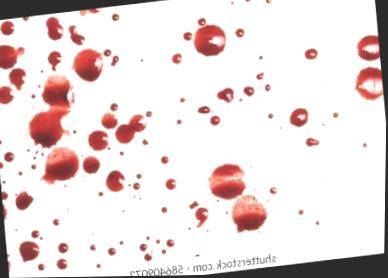Fire: (126, 154, 207, 235), (198, 73, 273, 126), (85, 232, 181, 270), (28, 74, 74, 148), (41, 148, 79, 184), (208, 165, 247, 200), (232, 196, 268, 233), (193, 17, 226, 56), (356, 68, 384, 101), (115, 115, 147, 143), (15, 158, 44, 181), (0, 44, 24, 69), (358, 36, 380, 61), (19, 242, 40, 262), (88, 130, 108, 151), (105, 171, 125, 192), (7, 68, 26, 90), (45, 16, 62, 40), (82, 156, 102, 174), (67, 24, 84, 45), (290, 109, 309, 127), (30, 70, 42, 98), (228, 0, 273, 7), (100, 112, 118, 129), (196, 208, 209, 228), (0, 85, 13, 103), (0, 20, 13, 35), (304, 48, 319, 60), (56, 258, 68, 270), (80, 9, 100, 16), (253, 54, 268, 63), (58, 242, 68, 254), (308, 138, 320, 147), (31, 231, 43, 240), (171, 54, 181, 64), (3, 152, 13, 162), (110, 55, 119, 65), (183, 32, 192, 41), (235, 29, 244, 37), (109, 103, 118, 111), (111, 13, 119, 21), (270, 187, 278, 195), (3, 204, 7, 218), (52, 219, 60, 226), (37, 264, 45, 271), (2, 191, 8, 200), (1, 180, 5, 191), (333, 113, 340, 119), (104, 50, 111, 56), (63, 131, 69, 138), (142, 139, 149, 145), (146, 111, 152, 117), (118, 151, 125, 156), (299, 210, 304, 216), (177, 119, 182, 125), (180, 98, 186, 103), (0, 161, 4, 168), (98, 191, 103, 196), (363, 144, 367, 148), (317, 221, 320, 226), (72, 130, 77, 133), (108, 147, 111, 150), (0, 140, 2, 144)
